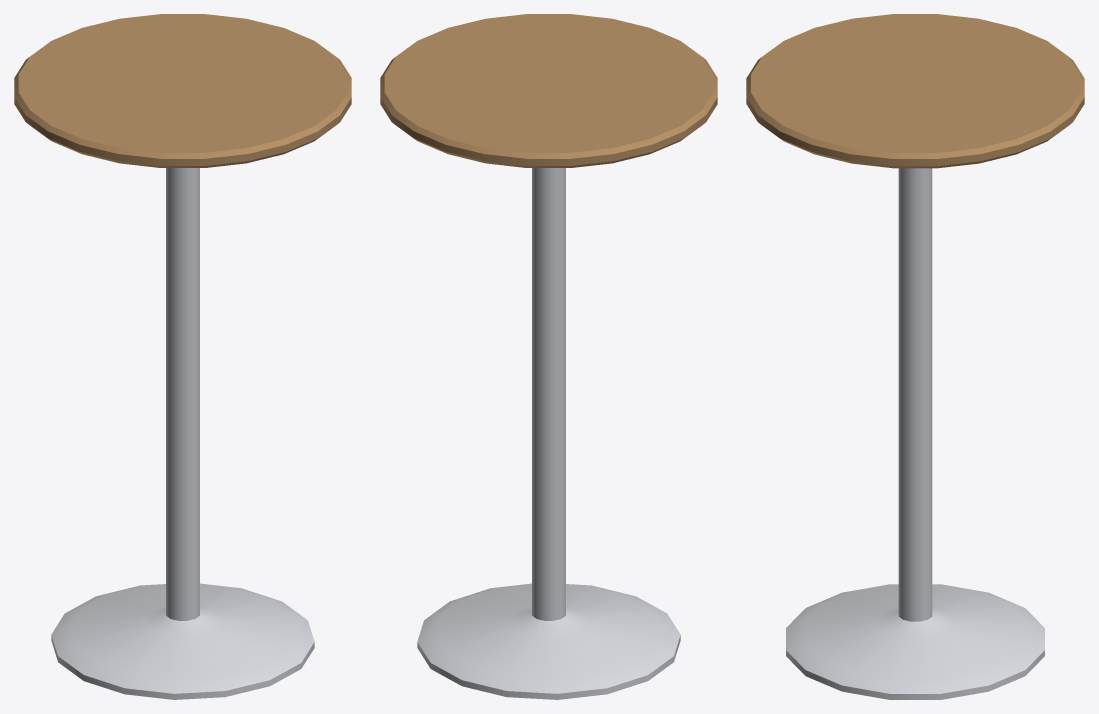
File: mesa_alta.glb
3 renders of one model, left to right at view 1: azimuth 30°, elevation 25°; view 2: azimuth 150°, elevation 25°; view 3: azimuth 270°, elevation 25°, orthographic.
Visible parts, largest first — view 1: mesa_alta_cuerpo; view 2: mesa_alta_cuerpo; view 3: mesa_alta_cuerpo.
Boxes of the visible parts, x1,y1,x2,y2 form: mesa_alta_cuerpo: (14,14,351,699); mesa_alta_cuerpo: (380,14,717,699); mesa_alta_cuerpo: (746,14,1084,699).
Size of what is drawn, in the model's own units: 0.6 by 1.1 by 0.6.
